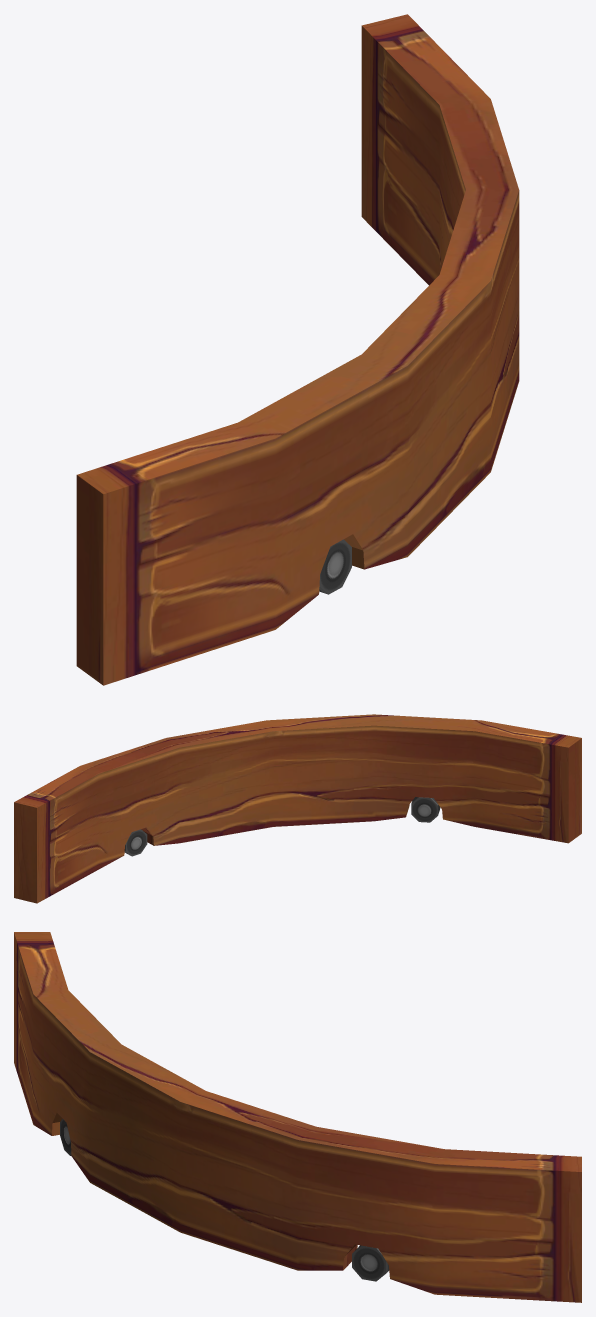
File: dynamic_arched_fence_wood_04.fbx
3 renders of one model, top to bottom at view 1: azimuth 30°, elevation 25°; view 2: azimuth 150°, elevation 25°; view 3: azimuth 270°, elevation 25°, orthographic. The views are drawn at different scales.
Parts seen in each view (by area): view 1: dynamic_arched_fence_wood_04; view 2: dynamic_arched_fence_wood_04; view 3: dynamic_arched_fence_wood_04.
Part boxes in pixels (x1,y1,x2,y2): dynamic_arched_fence_wood_04: [76, 14, 519, 685]; dynamic_arched_fence_wood_04: [14, 714, 581, 903]; dynamic_arched_fence_wood_04: [14, 932, 581, 1302].
Bounding box in the file's own units: 158 × 40 × 158.
